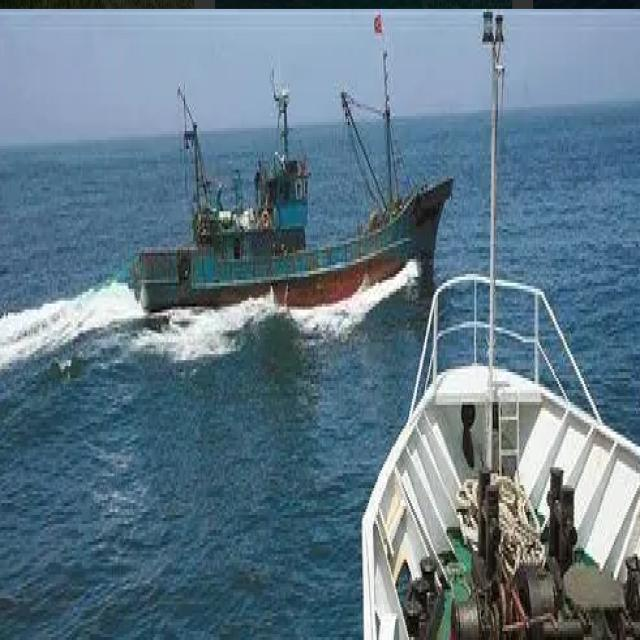fishing boat: (355, 266, 640, 640), (132, 21, 445, 303)
